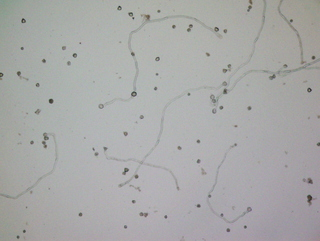germinated: (96, 98, 113, 110), (210, 79, 227, 91), (100, 143, 111, 158), (208, 93, 223, 103), (40, 129, 56, 138), (13, 69, 26, 79), (209, 102, 219, 115), (242, 205, 253, 216), (277, 61, 287, 73)
nongerminated: (203, 48, 216, 60), (304, 191, 316, 203), (32, 79, 43, 91), (32, 106, 44, 117), (142, 11, 153, 22), (114, 3, 125, 13), (161, 210, 171, 221), (231, 120, 241, 131), (128, 89, 140, 98), (18, 15, 28, 25), (39, 56, 49, 66), (46, 96, 56, 106), (121, 129, 131, 139), (27, 137, 37, 147), (128, 197, 138, 207), (120, 221, 130, 231), (305, 176, 315, 186), (184, 90, 194, 100), (221, 65, 230, 76), (174, 144, 185, 153), (76, 209, 85, 220), (194, 136, 203, 146), (244, 103, 254, 112), (194, 156, 204, 165), (59, 42, 68, 52), (70, 51, 80, 60), (137, 112, 146, 122), (224, 225, 233, 235), (170, 22, 179, 31), (218, 209, 227, 218), (18, 44, 27, 53), (212, 24, 220, 34), (308, 52, 318, 60), (195, 201, 203, 211), (91, 150, 99, 160), (288, 17, 297, 25), (151, 84, 160, 92), (221, 26, 230, 34), (19, 228, 28, 236), (132, 172, 140, 181), (241, 223, 250, 231), (187, 21, 195, 29), (123, 165, 131, 173), (153, 55, 162, 62), (152, 70, 161, 77), (137, 210, 144, 219), (306, 86, 314, 93), (143, 210, 150, 218), (127, 10, 135, 17), (186, 26, 191, 33)
